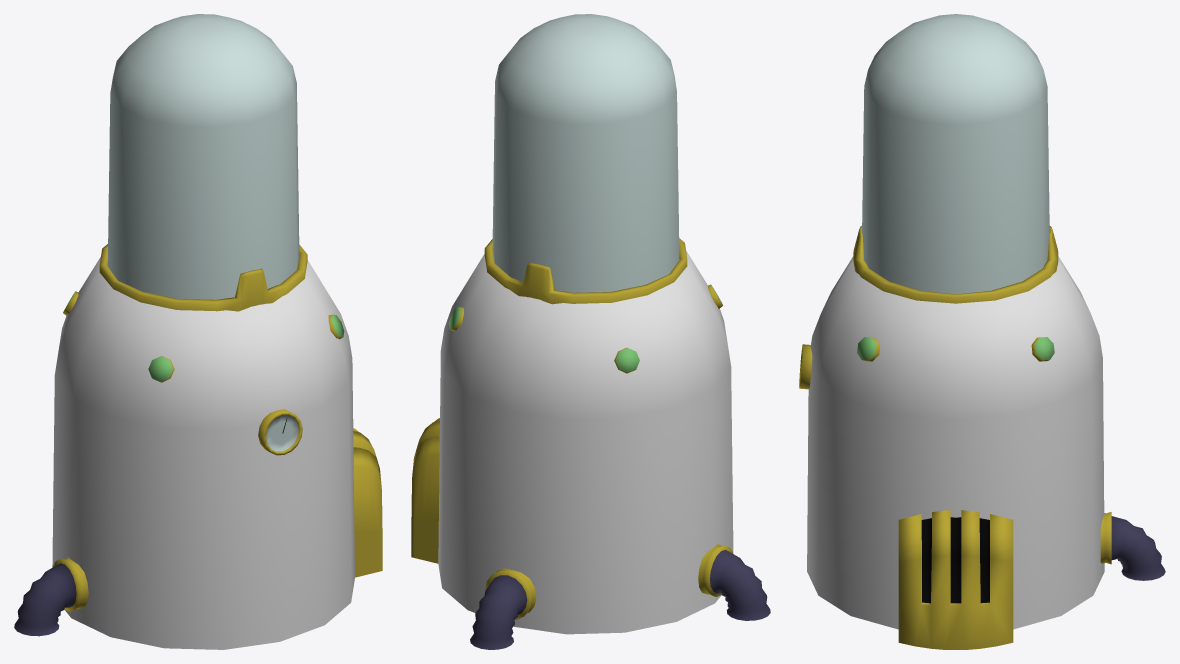
Rendered from SproutCapsule.fbx.
3 renders of one model, left to right at view 1: azimuth 30°, elevation 25°; view 2: azimuth 150°, elevation 25°; view 3: azimuth 270°, elevation 25°, orthographic. The views are drawn at different scales.
Parts seen in each view (by area): view 1: SproutCapsule; view 2: SproutCapsule; view 3: SproutCapsule.
Boxes of the visible parts, x1,y1,x2,y2 form: SproutCapsule: (14,14,382,649); SproutCapsule: (411,14,770,649); SproutCapsule: (799,14,1165,649).
Size of the model in its own units: 1.74 by 2.64 by 1.61.
